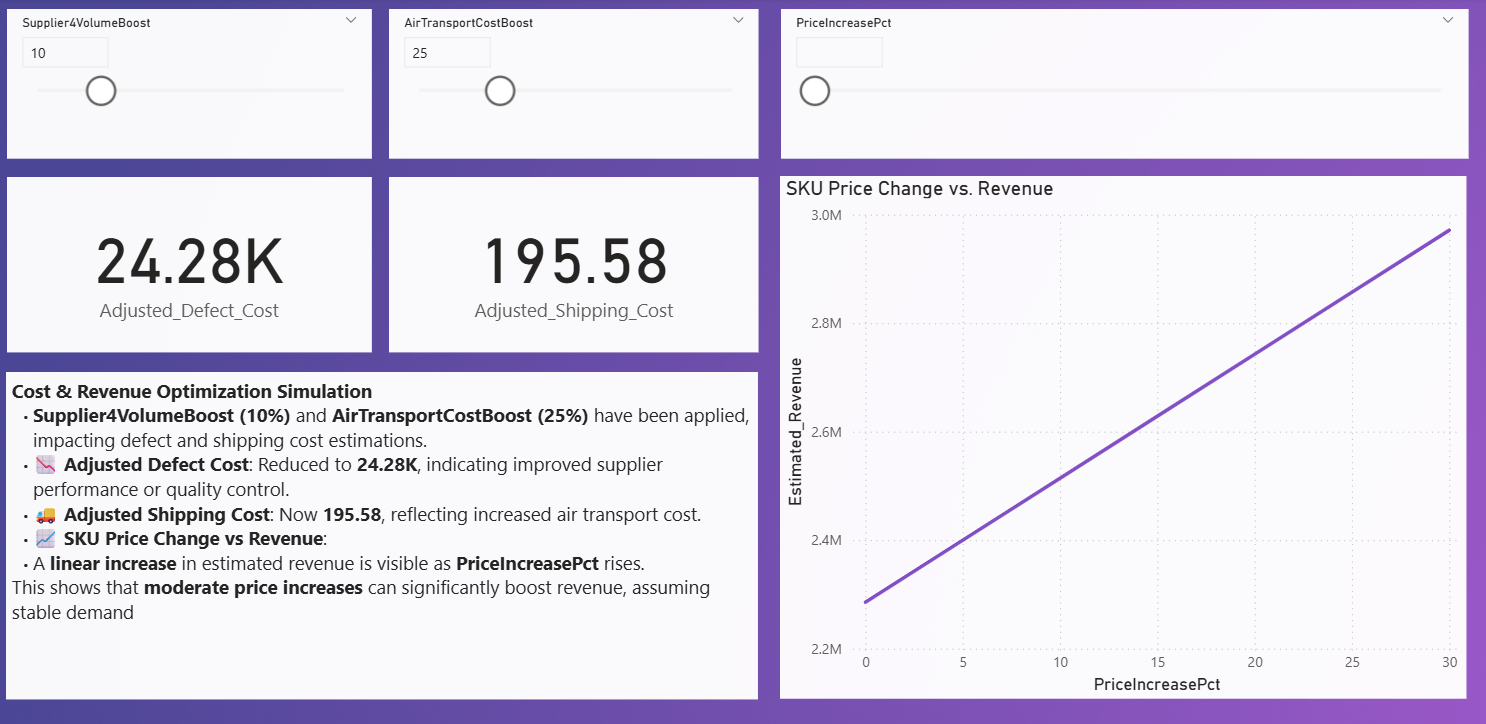

This screenshot's page, from the dashboard's own definition file:
{"tool":"powerbi","page":{"name":"Decision Simulator / What-If Analysis","canvas":[1280,720],"ordinal":4},"visuals":[{"type":"slicer","fields":{"Values":["Supplier4VolumeBoost.Supplier4VolumeBoost"]},"box":[9.3,9.3,311.5,128],"z":0},{"type":"card","fields":{"Values":["Supplier4VolumeBoost.Adjusted_Defect_Cost"]},"box":[9.3,152.7,311.5,149.6],"z":1000},{"type":"slicer","fields":{"Values":["AirTransportCostBoost.AirTransportCostBoost"]},"box":[336.2,9.3,316.1,128],"z":2000},{"type":"card","fields":{"Values":["AirTransportCostBoost.Adjusted_Shipping_Cost"]},"box":[336.2,152.7,316.1,149.6],"z":3000},{"type":"slicer","fields":{"Values":["PriceIncreasePct.PriceIncreasePct"]},"box":[670.8,9.3,587.6,128],"z":4000},{"type":"lineChart","title":"SKU Price Change vs. Revenue","fields":{"Y":["AirTransportCostBoost.Estimated_Revenue"],"Category":["PriceIncreasePct.PriceIncreasePct"]},"box":[670.7,152.6,587.2,447.1],"z":5000},{"type":"textbox","box":[8.6,319.5,642.9,280.2],"z":5001}]}

Visuals, with their boxes on the page's 1280x720 design canvas (x1, y1, x2, y2). These are canvas units, not pixel positions in the 1486x724 screenshot, which may show the page scaled, cropped or inside an application window:
slicer - Supplier4VolumeBoost.Supplier4VolumeBoost: {"x1": 9, "y1": 9, "x2": 321, "y2": 137}
card - Supplier4VolumeBoost.Adjusted_Defect_Cost: {"x1": 9, "y1": 153, "x2": 321, "y2": 302}
slicer - AirTransportCostBoost.AirTransportCostBoost: {"x1": 336, "y1": 9, "x2": 652, "y2": 137}
card - AirTransportCostBoost.Adjusted_Shipping_Cost: {"x1": 336, "y1": 153, "x2": 652, "y2": 302}
slicer - PriceIncreasePct.PriceIncreasePct: {"x1": 671, "y1": 9, "x2": 1258, "y2": 137}
"SKU Price Change vs. Revenue" lineChart: {"x1": 671, "y1": 153, "x2": 1258, "y2": 600}
textbox: {"x1": 9, "y1": 320, "x2": 652, "y2": 600}
